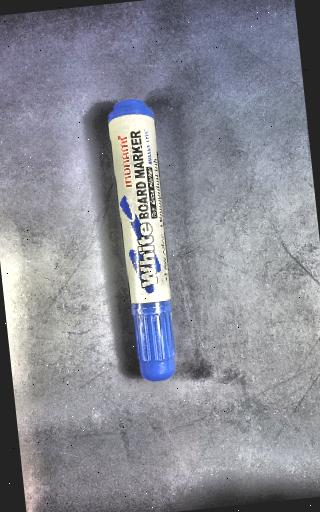marcador azul: (108, 100, 174, 381)
